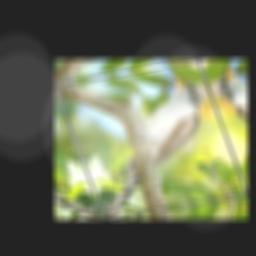Cuckoo: (60, 67, 241, 218)
